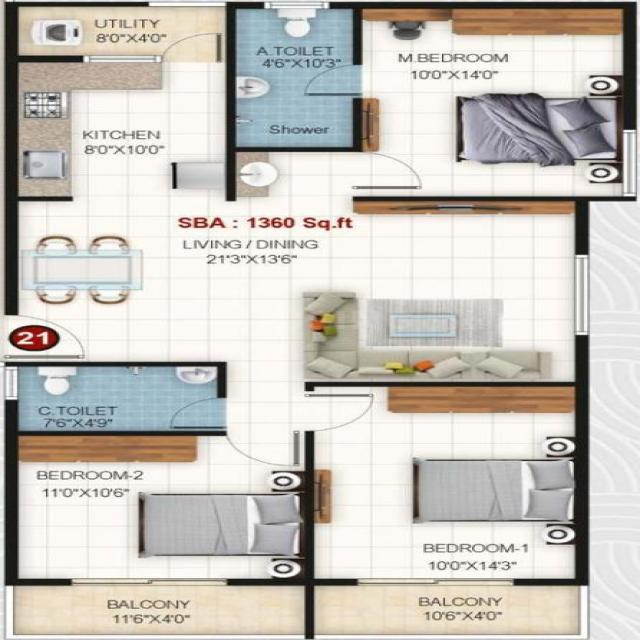Balcony-Sitout: (0, 585, 314, 639), (308, 585, 590, 640)
Bedroom: (306, 381, 585, 586), (4, 433, 319, 586)
Bedroom with Toilet: (225, 2, 638, 202)
Dining: (17, 233, 148, 308)
Enterance-Foyer: (4, 311, 92, 360)
Kitchen: (4, 55, 231, 201)
Living: (301, 197, 590, 387)
Toilet: (225, 1, 361, 151), (4, 359, 225, 436)
Utility: (8, 3, 238, 59)
